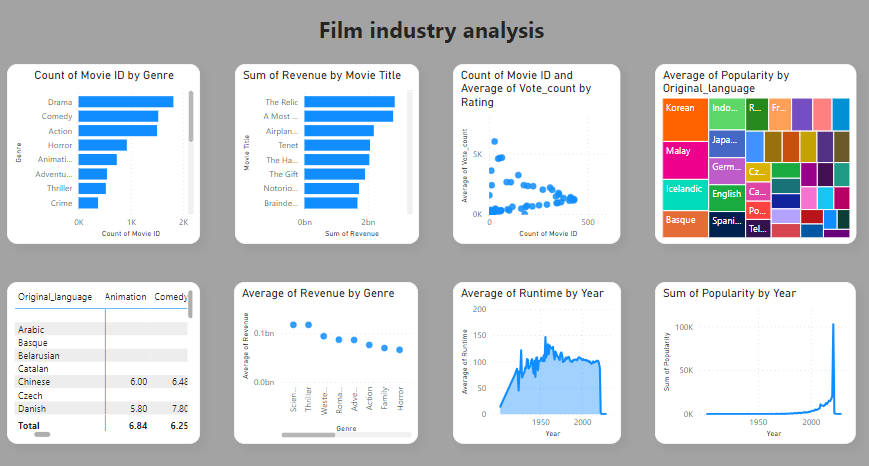

What the dashboard file says about the page in this screenshot:
{"tool":"powerbi","page":{"name":"Page 1","canvas":[1280,720],"ordinal":0},"visuals":[{"type":"barChart","fields":{"Y":["CountNonNull(Movie_Details.Movie ID)"],"Category":["Movie_Details.Genre"]},"box":[28.8,101,278,259],"z":0},{"type":"scatterChart","fields":{"X":["CountNonNull(Movie_Details.Movie ID)"],"Category":["Movie_Details.Rating"],"Y":["Avg(Movie_Details.Vote_count)"]},"box":[670.8,101,241.5,259],"z":1000},{"type":"lineChart","fields":{"Category":["Movie_Details.Release Date.Variation.Date Hierarchy.Year"],"Y":["Sum(Movie_Details.Popularity)"]},"box":[961.9,414.7,289.4,233.3],"z":2000},{"type":"barChart","fields":{"Category":["Movie_Details.Movie Title","Movie_Details.Movie ID"],"Y":["Sum(Movie_Details.Revenue)"]},"box":[356.6,100.9,265,259.2],"z":3000},{"type":"pivotTable","fields":{"Rows":["Movie_Details.Original_language"],"Columns":["Movie_Details.Genre"],"Values":["Avg(Movie_Details.Rating)"]},"box":[28.8,414.7,277.9,233.3],"z":4000},{"type":"areaChart","fields":{"Category":["Movie_Details.Release Date.Variation.Date Hierarchy.Year"],"Y":["Avg(Movie_Details.Runtime)"]},"box":[670.6,414.7,241.9,233.3],"z":5000},{"type":"scatterChart","fields":{"X":["Movie_Details.Genre"],"Y":["Avg(Movie_Details.Revenue)"]},"box":[356.2,414.7,265,233.3],"z":6000},{"type":"treemap","fields":{"Group":["Movie_Details.Original_language"],"Values":["Avg(Movie_Details.Popularity)"]},"box":[961.5,101,289.8,259],"z":7000},{"type":"textbox","box":[434.8,23,410.4,53.3],"z":7001}]}

Visuals, with their boxes on the page's 1280x720 design canvas (x1, y1, x2, y2). These are canvas units, not pixel positions in the 869x466 screenshot, which may show the page scaled, cropped or inside an application window:
barChart - CountNonNull(Movie_Details.Movie ID) x Movie_Details.Genre: (29, 101, 307, 360)
scatterChart - CountNonNull(Movie_Details.Movie ID) x Movie_Details.Rating: (671, 101, 912, 360)
lineChart - Movie_Details.Release Date.Variation.Date Hierarchy.Year x Sum(Movie_Details.Popularity): (962, 415, 1251, 648)
barChart - Movie_Details.Movie Title x Movie_Details.Movie ID: (357, 101, 622, 360)
pivotTable - Movie_Details.Original_language x Movie_Details.Genre: (29, 415, 307, 648)
areaChart - Movie_Details.Release Date.Variation.Date Hierarchy.Year x Avg(Movie_Details.Runtime): (671, 415, 912, 648)
scatterChart - Movie_Details.Genre x Avg(Movie_Details.Revenue): (356, 415, 621, 648)
treemap - Movie_Details.Original_language x Avg(Movie_Details.Popularity): (962, 101, 1251, 360)
textbox: (435, 23, 845, 76)
